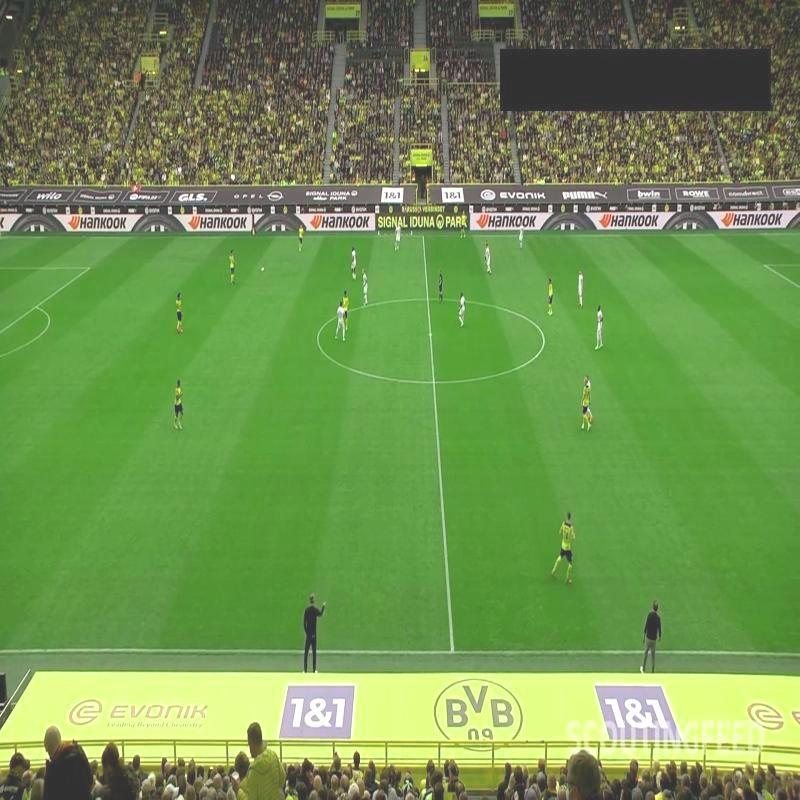10: (28, 298, 42, 312)
13: (416, 228, 430, 242)
14: (420, 290, 435, 304)
15: (426, 374, 440, 388)
16: (444, 640, 463, 659)
9: (757, 258, 776, 274), (81, 260, 95, 274)
c: (309, 328, 325, 348), (537, 328, 553, 347)
